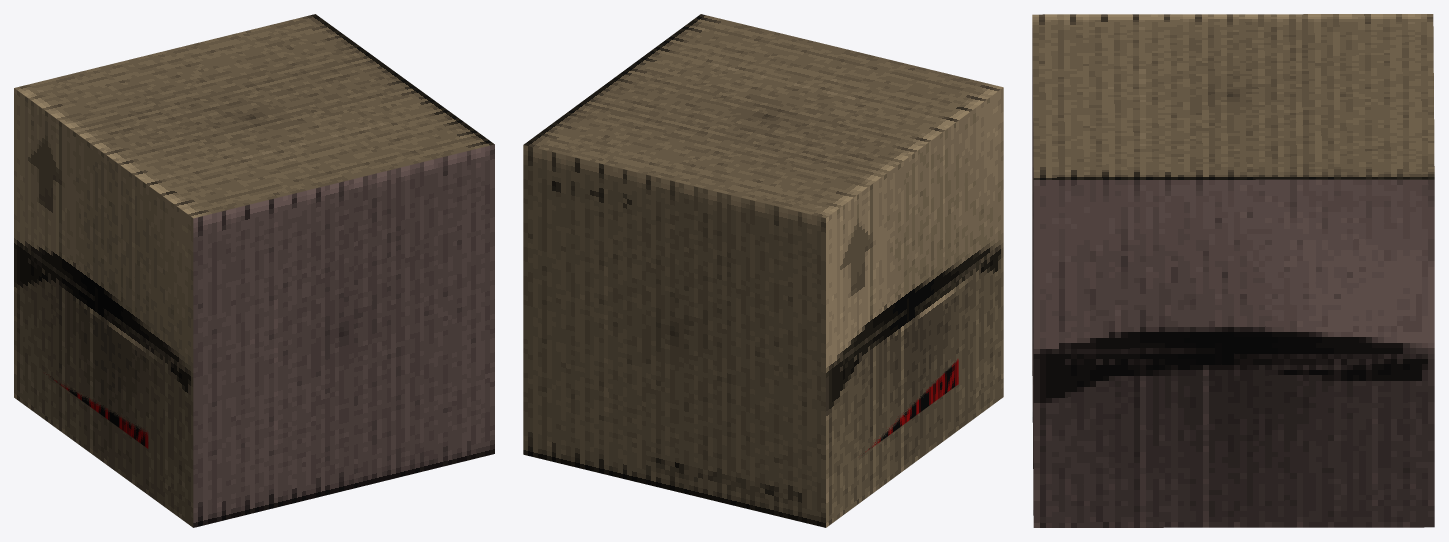
File: primary_072.glb
3 renders of one model, left to right at view 1: azimuth 30°, elevation 25°; view 2: azimuth 150°, elevation 25°; view 3: azimuth 270°, elevation 25°, orthographic. The views are drawn at different scales.
Visible parts, largest first — view 1: Object; view 2: Object; view 3: Object.
Boxes of the visible parts, box(x1,y1,x2,y2) form: Object: box(14, 14, 494, 527); Object: box(523, 14, 1003, 527); Object: box(1032, 14, 1434, 527).
Bounding box in the file's own units: 1.1 × 1.07 × 1.12.
7 materials, 7 textured.
